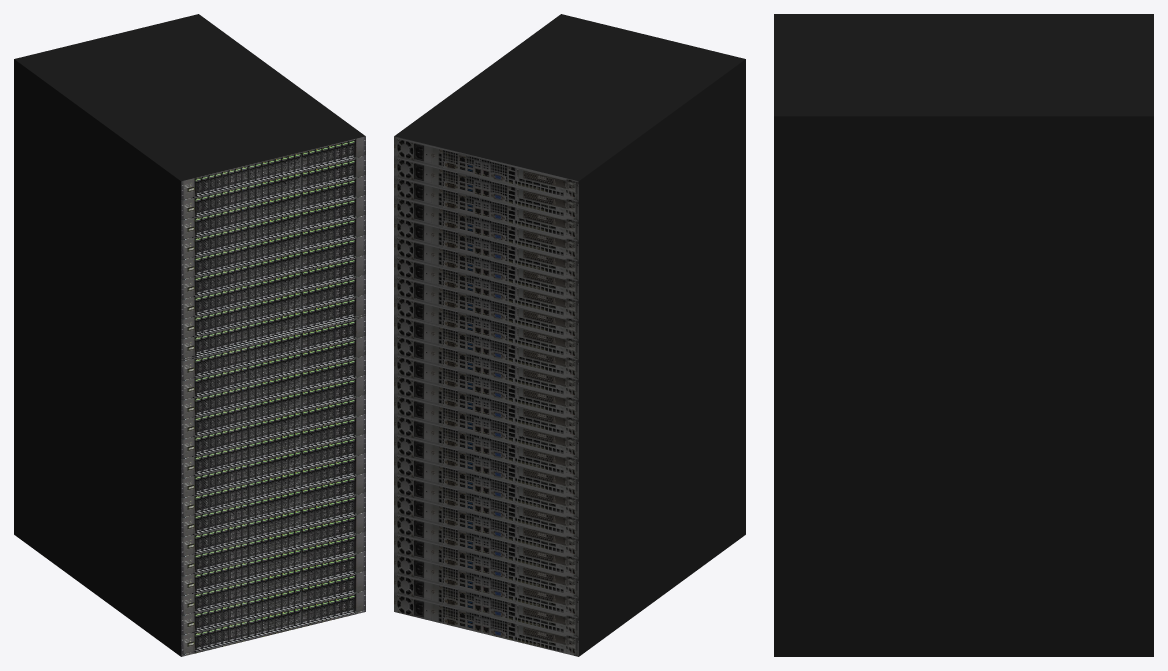
The model's file is NDR24.fbx.
The picture shows the model from 3 angles, left to right: view 1: azimuth 30°, elevation 25°; view 2: azimuth 150°, elevation 25°; view 3: azimuth 270°, elevation 25°; orthographic projection. The views are drawn at different scales.
Visible parts, largest first — view 1: NDR24; view 2: NDR24; view 3: NDR24.
Boxes of the visible parts, x1,y1,x2,y2 form: NDR24: [14, 14, 365, 656]; NDR24: [394, 14, 745, 656]; NDR24: [774, 14, 1153, 656].
Size of the model in its own units: 434 by 1068 by 680.
3 materials, 2 textured.
